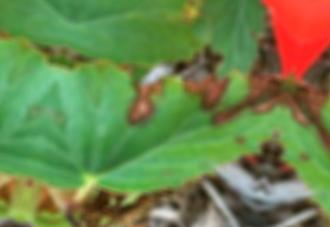Tomato leaf bacterial spot: (27, 13, 294, 227)
